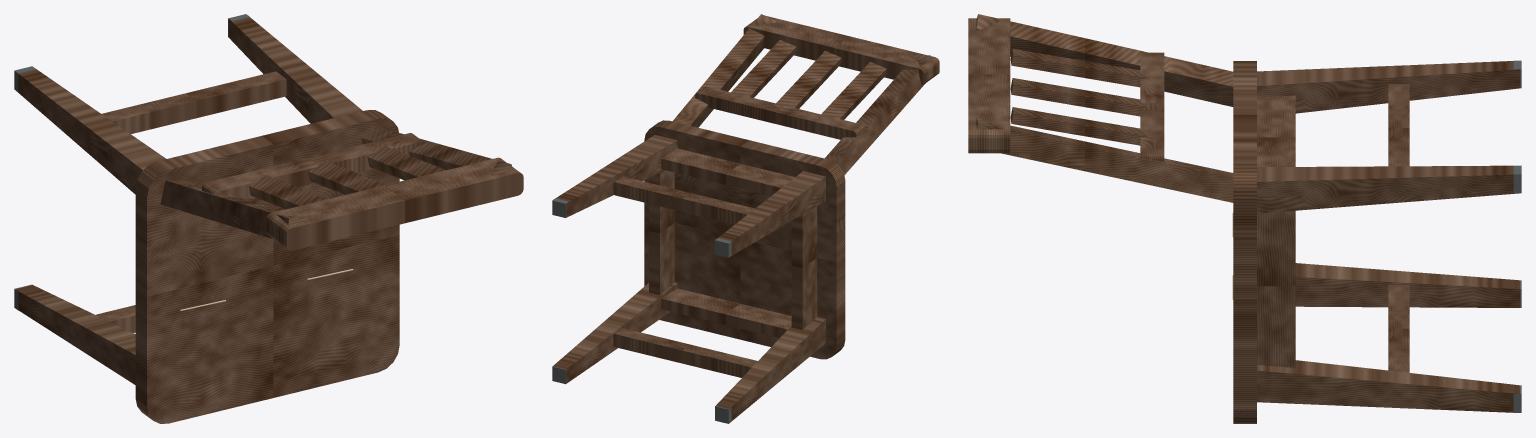
Rendered from PZ_Dining_Wooden_Chair.glb.
The picture shows the model from 3 angles, left to right: view 1: azimuth 30°, elevation 25°; view 2: azimuth 150°, elevation 25°; view 3: azimuth 270°, elevation 25°; orthographic projection. The views are drawn at different scales.
Parts seen in each view (by area): view 1: GEO_WoodChair__SEAT_SaddleShapedWood, GEO_WoodChair__BACK_CurvedCrestRail, GEO_WoodChair__LEGS_TaperedWood_L_B, GEO_WoodChair__LEGS_TaperedWood_R_B, GEO_WoodChair__LEGS_TaperedWood_L_F, GEO_WoodChair__BRACE_FrontRearStretch_B, GEO_WoodChair__BACK_BottomRail, GEO_WoodChair__BACK_RakedStile_Left, GEO_WoodChair__BACK_RakedStile_Right, GEO_WoodChair__BACK_VerticalSlat_2, GEO_WoodChair__BACK_VerticalSlat_1, GEO_WoodChair__BACK_VerticalSlat_3 (+1 smaller); view 2: GEO_WoodChair__SEAT_SaddleShapedWood, GEO_WoodChair__BACK_CurvedCrestRail, GEO_WoodChair__LEGS_TaperedWood_L_F, GEO_WoodChair__LEGS_TaperedWood_L_B, GEO_WoodChair__LEGS_TaperedWood_R_F, GEO_WoodChair__LEGS_TaperedWood_R_B, GEO_WoodChair__BACK_BottomRail, GEO_WoodChair__BACK_RakedStile_Left, GEO_WoodChair__SEAT_FrameFrontBack_F, GEO_WoodChair__SEAT_FrameSide_L, GEO_WoodChair__SEAT_FrameFrontBack_B, GEO_WoodChair__BRACE_FrontRearStretch_F (+6 smaller); view 3: GEO_WoodChair__LEGS_TaperedWood_R_B, GEO_WoodChair__LEGS_TaperedWood_R_F, GEO_WoodChair__LEGS_TaperedWood_L_B, GEO_WoodChair__SEAT_SaddleShapedWood, GEO_WoodChair__LEGS_TaperedWood_L_F, GEO_WoodChair__BACK_RakedStile_Right, GEO_WoodChair__SEAT_FrameSide_R, GEO_WoodChair__BACK_RakedStile_Left, GEO_WoodChair__BACK_CurvedCrestRail, GEO_WoodChair__SEAT_FrameFrontBack_B, GEO_WoodChair__BACK_BottomRail, GEO_WoodChair__BACK_VerticalSlat_2 (+4 smaller).
Boxes of the visible parts, bbox=[...] form: GEO_WoodChair__SEAT_SaddleShapedWood: bbox=[135, 110, 399, 423]; GEO_WoodChair__BACK_CurvedCrestRail: bbox=[265, 157, 523, 250]; GEO_WoodChair__LEGS_TaperedWood_L_B: bbox=[16, 69, 165, 194]; GEO_WoodChair__LEGS_TaperedWood_R_B: bbox=[229, 17, 362, 123]; GEO_WoodChair__LEGS_TaperedWood_L_F: bbox=[15, 285, 135, 384]; GEO_WoodChair__BRACE_FrontRearStretch_B: bbox=[102, 71, 286, 133]; GEO_WoodChair__BACK_BottomRail: bbox=[202, 133, 424, 199]; GEO_WoodChair__BACK_RakedStile_Left: bbox=[160, 180, 309, 238]; GEO_WoodChair__BACK_RakedStile_Right: bbox=[361, 128, 513, 175]; GEO_WoodChair__BACK_VerticalSlat_2: bbox=[308, 160, 386, 194]; GEO_WoodChair__BACK_VerticalSlat_1: bbox=[249, 175, 327, 209]; GEO_WoodChair__BACK_VerticalSlat_3: bbox=[367, 146, 445, 180]; GEO_WoodChair__SEAT_SaddleShapedWood: bbox=[644, 120, 845, 359]; GEO_WoodChair__BACK_CurvedCrestRail: bbox=[743, 15, 939, 85]; GEO_WoodChair__LEGS_TaperedWood_L_F: bbox=[716, 317, 825, 420]; GEO_WoodChair__LEGS_TaperedWood_L_B: bbox=[718, 171, 825, 256]; GEO_WoodChair__LEGS_TaperedWood_R_F: bbox=[553, 282, 677, 383]; GEO_WoodChair__LEGS_TaperedWood_R_B: bbox=[556, 135, 677, 217]; GEO_WoodChair__BACK_BottomRail: bbox=[695, 86, 864, 139]; GEO_WoodChair__BACK_RakedStile_Left: bbox=[824, 55, 931, 174]; GEO_WoodChair__SEAT_FrameFrontBack_F: bbox=[661, 288, 791, 337]; GEO_WoodChair__SEAT_FrameSide_L: bbox=[791, 206, 817, 329]; GEO_WoodChair__SEAT_FrameFrontBack_B: bbox=[661, 148, 794, 195]; GEO_WoodChair__BRACE_FrontRearStretch_F: bbox=[613, 328, 757, 377]; GEO_WoodChair__LEGS_TaperedWood_R_B: bbox=[1257, 165, 1518, 213]; GEO_WoodChair__LEGS_TaperedWood_R_F: bbox=[1257, 360, 1519, 412]; GEO_WoodChair__LEGS_TaperedWood_L_B: bbox=[1257, 61, 1519, 113]; GEO_WoodChair__SEAT_SaddleShapedWood: bbox=[1233, 61, 1256, 423]; GEO_WoodChair__LEGS_TaperedWood_L_F: bbox=[1295, 263, 1519, 307]; GEO_WoodChair__BACK_RakedStile_Right: bbox=[976, 118, 1233, 202]; GEO_WoodChair__SEAT_FrameSide_R: bbox=[1257, 210, 1295, 367]; GEO_WoodChair__BACK_RakedStile_Left: bbox=[976, 14, 1233, 106]; GEO_WoodChair__BACK_CurvedCrestRail: bbox=[968, 18, 1010, 153]; GEO_WoodChair__SEAT_FrameFrontBack_B: bbox=[1257, 95, 1295, 167]; GEO_WoodChair__BACK_BottomRail: bbox=[1140, 52, 1164, 161]; GEO_WoodChair__BACK_VerticalSlat_2: bbox=[1010, 78, 1148, 116].
Bounding box in the file's own units: 0.477 × 0.5408 × 0.8995.
Materials: 4 (1 with a texture image).
